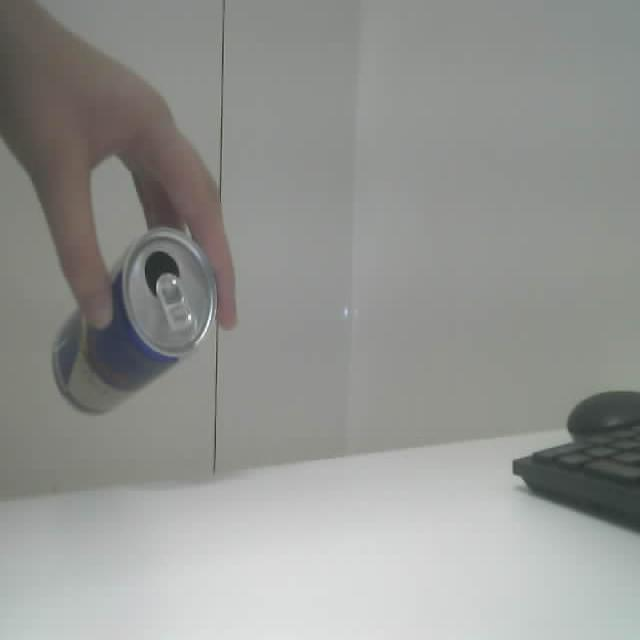redbull can: (53, 228, 216, 413)
